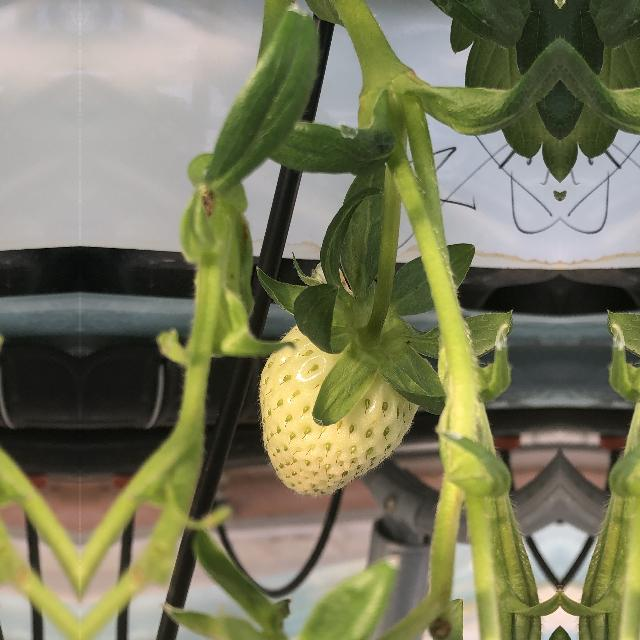Health_25: (255, 315, 427, 501)
